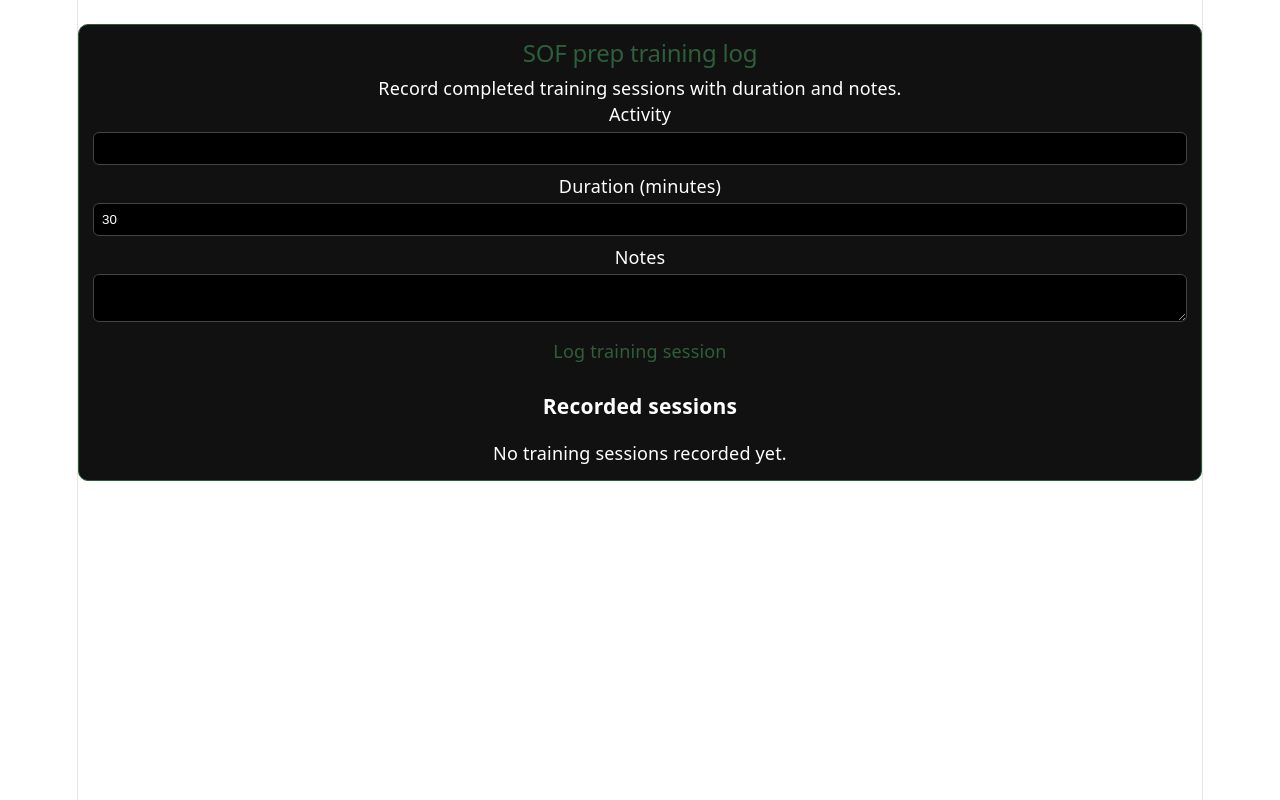
Test case: TacticalActivityLog › stores named, timed prep sessions separately from curriculum completion
This screenshot has width=1280, height=800.
Check: the text "No training sessions recorded yet." is shown, box [493,441,787,465]
Type "Ruck session" into the field labelled "Activity".
click(640, 148); type("Ruck session")  # box [93,132,1187,164]
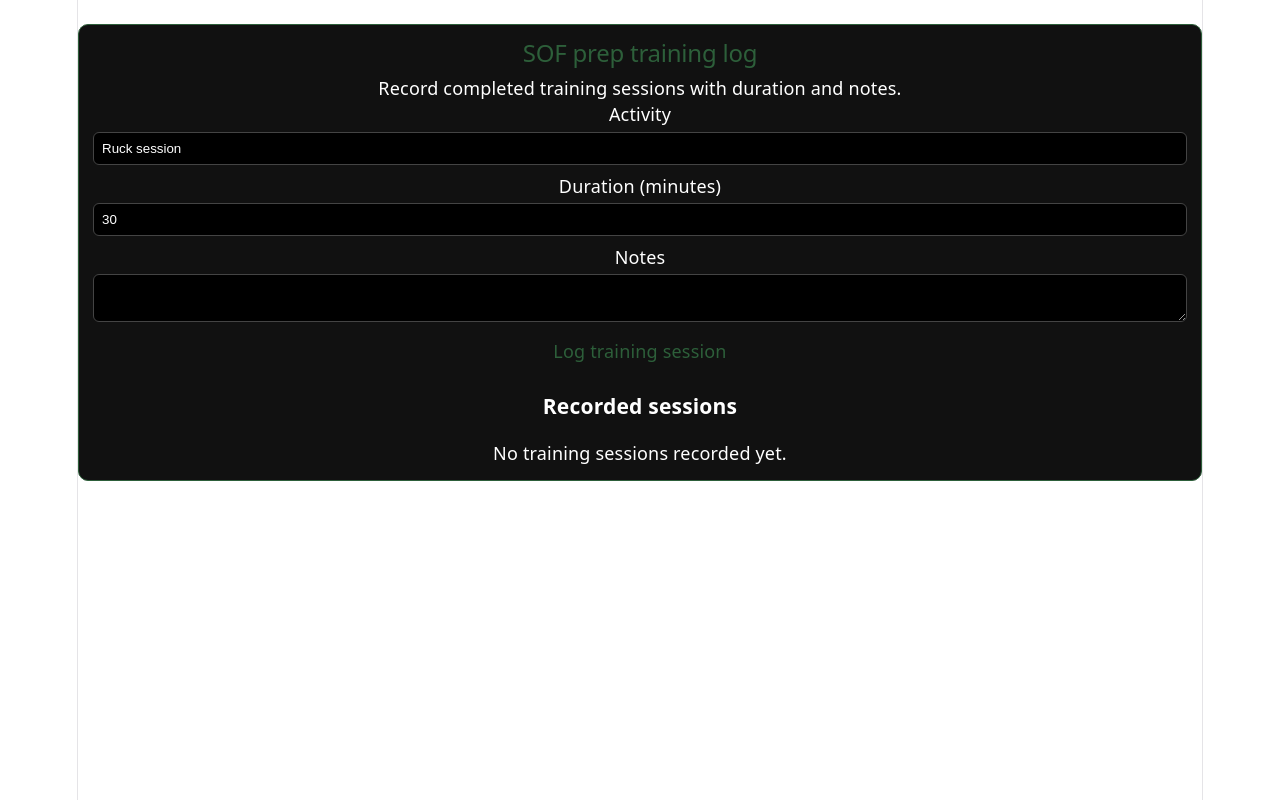
Replace the text in the number field labelled "Duration (minutes)" with "42" at [640, 219], box [93,203,1187,236]
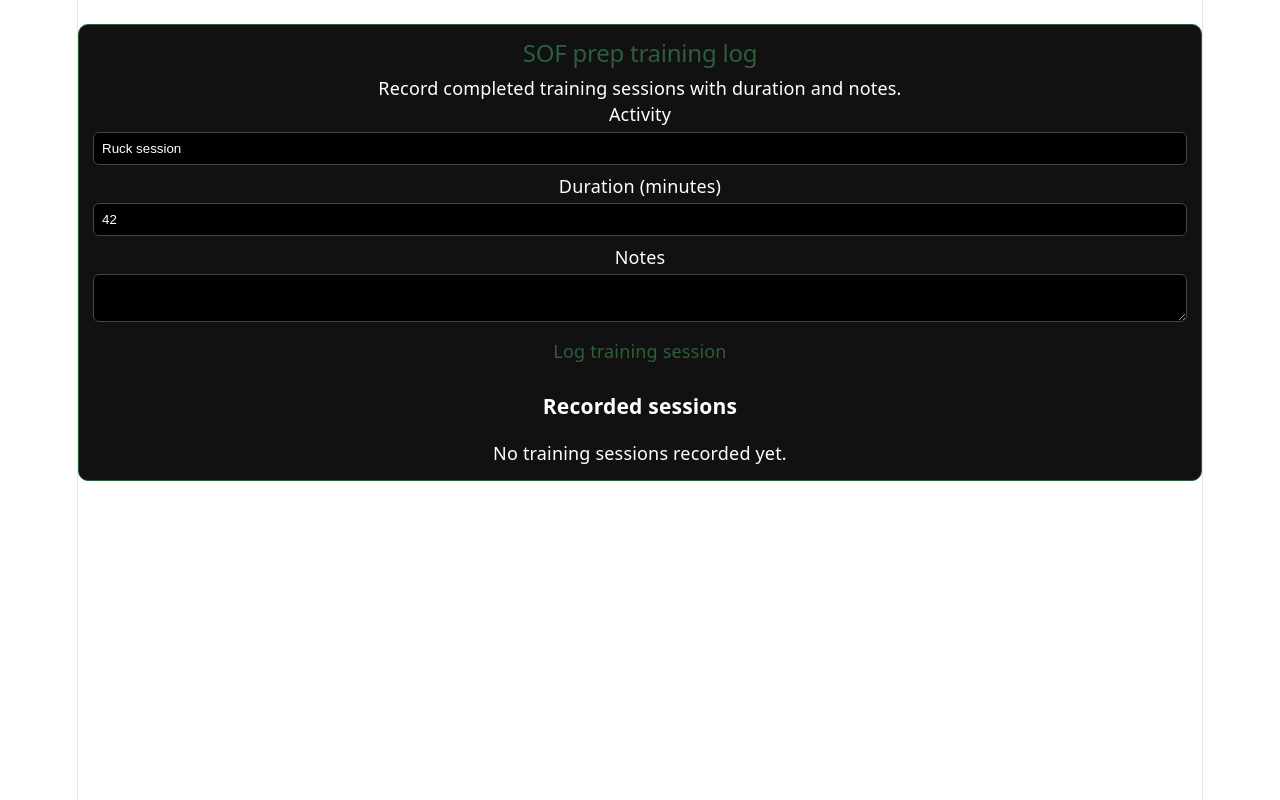
Type "Steady pace" into the text box labelled "Notes".
click(640, 298); type("Steady pace")  # box [93,274,1187,322]
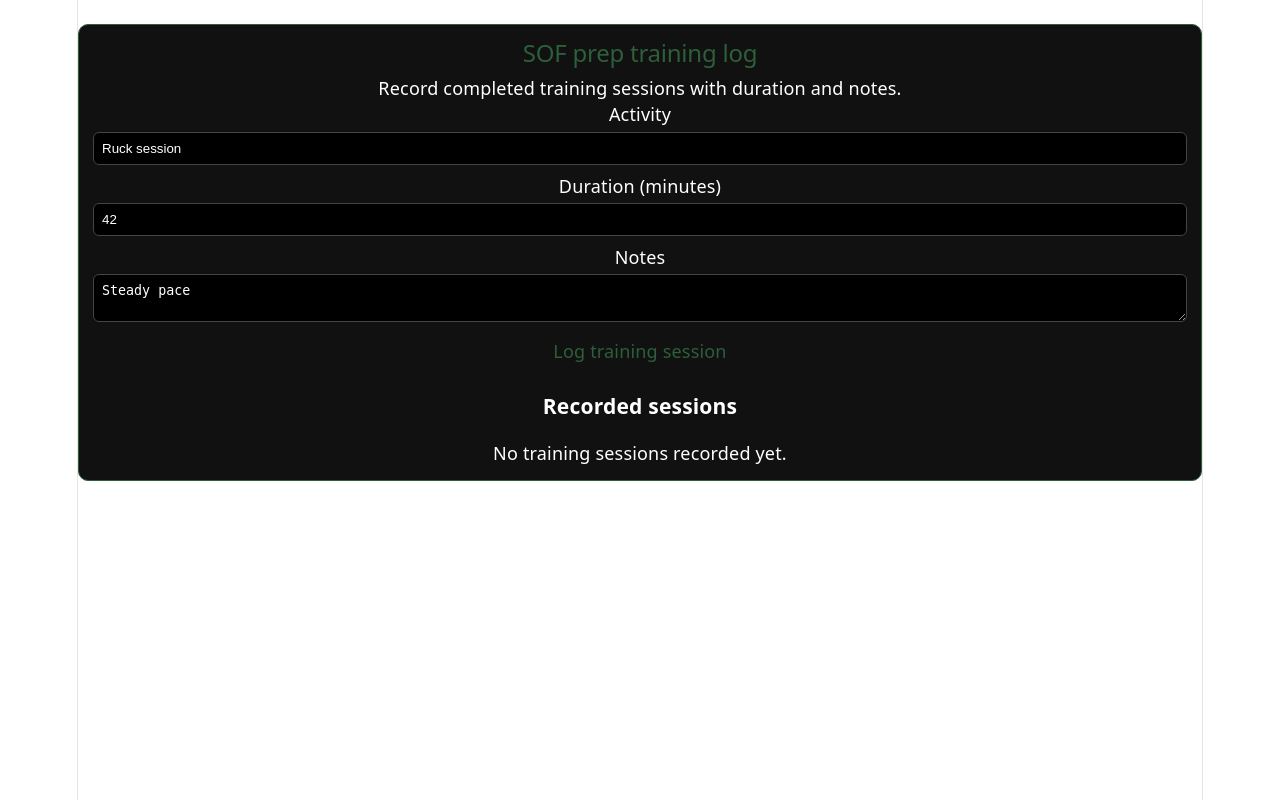
Click the button "Log training session".
click(640, 351)  # box [553,339,727,363]
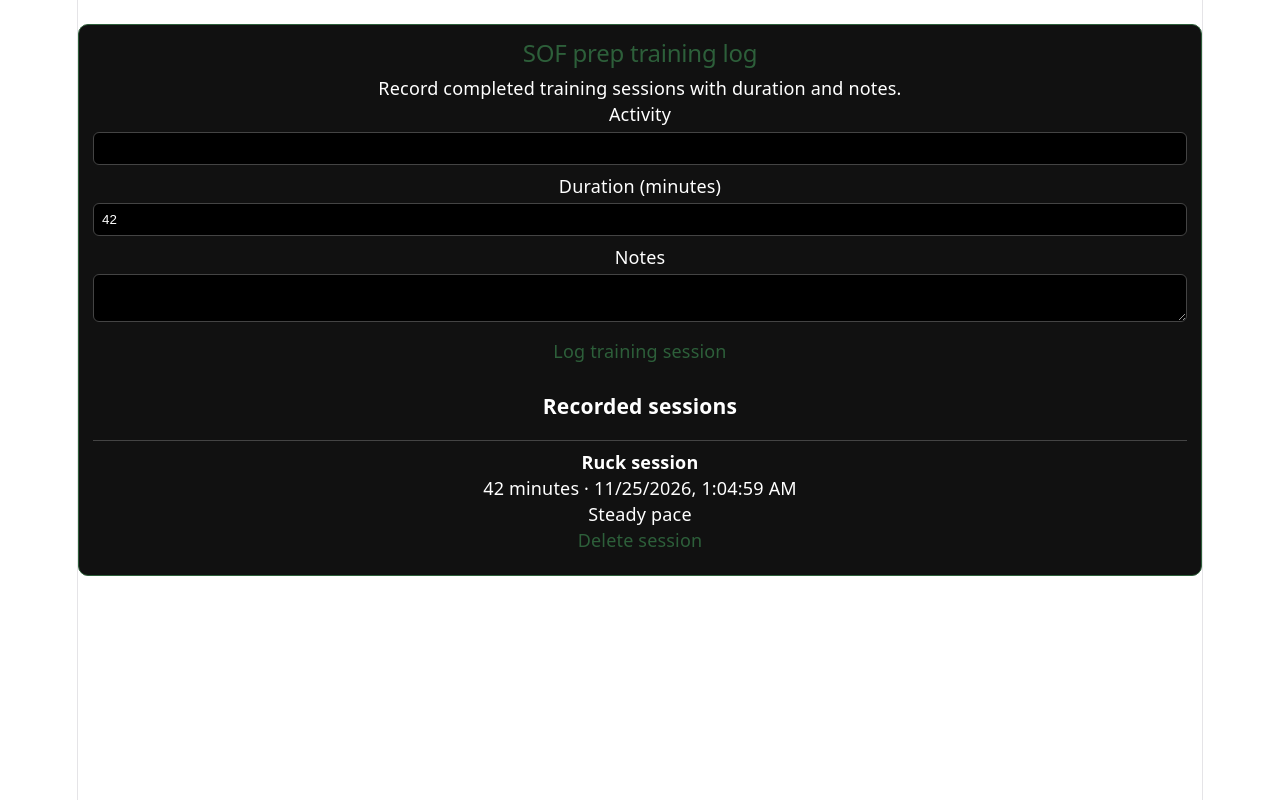
Check: the text "Ruck session" is shown, box [582,450,698,474]
